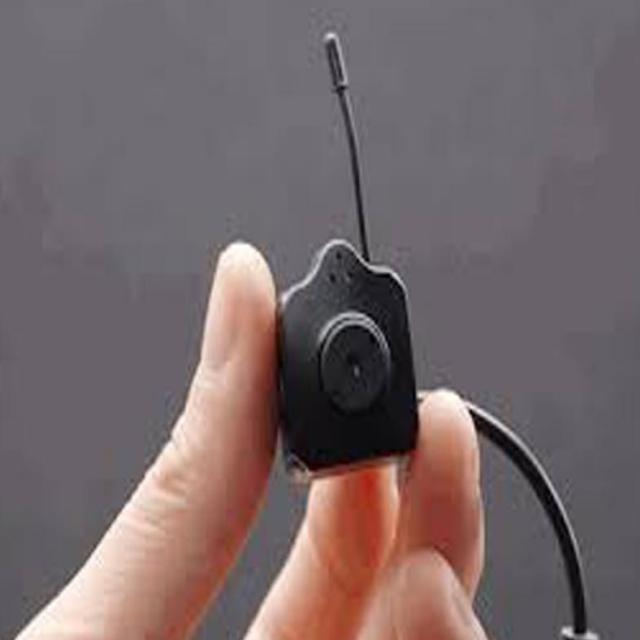hidden camera: (324, 327, 387, 417)
